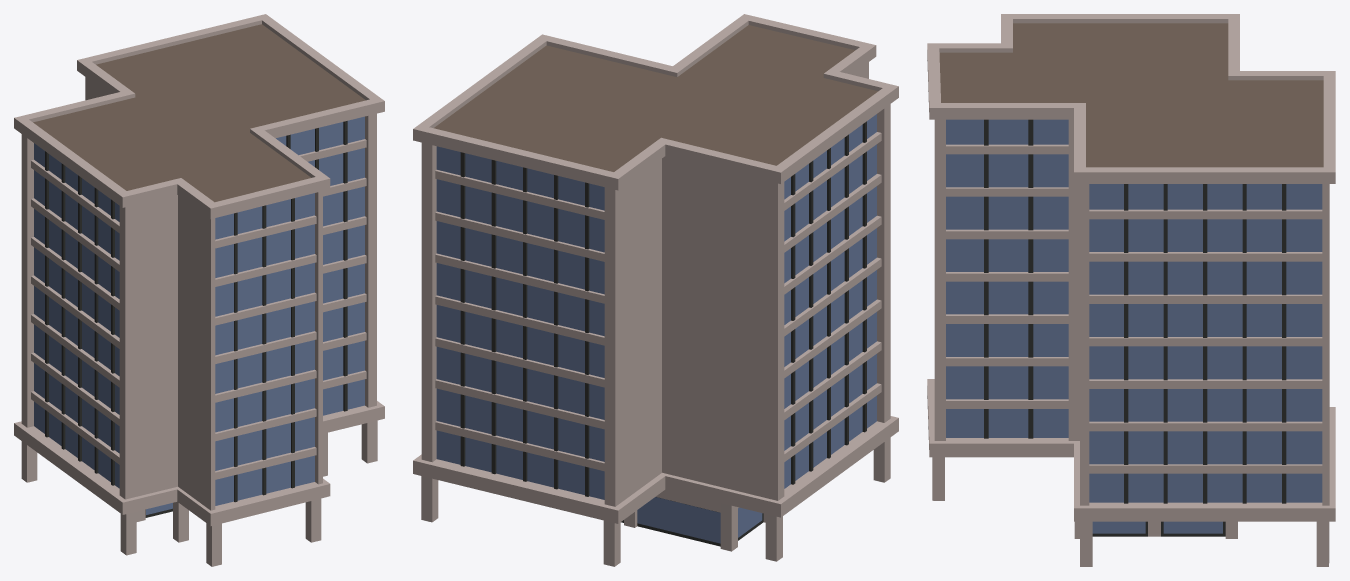
Rendered from LargeBuilding_19.fbx.
3 views of the same model, side by side, from view 1: azimuth 30°, elevation 25°; view 2: azimuth 150°, elevation 25°; view 3: azimuth 270°, elevation 25° (orthographic). The views are drawn at different scales.
Parts seen in each view (by area): view 1: LargeBuilding_19; view 2: LargeBuilding_19; view 3: LargeBuilding_19.
Part boxes in pixels (x1,y1,x2,y2): LargeBuilding_19: [14, 14, 384, 566]; LargeBuilding_19: [413, 14, 898, 566]; LargeBuilding_19: [927, 14, 1335, 566].
Bounding box in the file's own units: 31.2 × 36.45 × 33.99.
